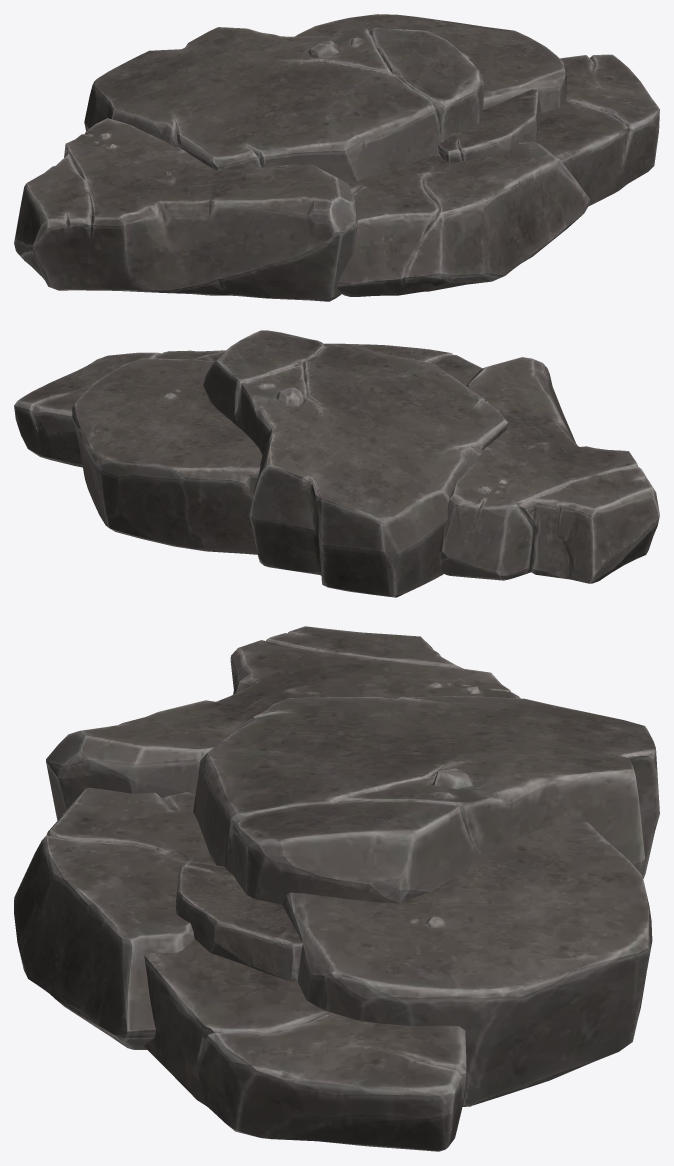
The picture shows the model from 3 angles, top to bottom: view 1: azimuth 30°, elevation 25°; view 2: azimuth 150°, elevation 25°; view 3: azimuth 270°, elevation 25°; orthographic projection. The views are drawn at different scales.
Visible parts, largest first — view 1: SM_Mining_None_Large_Coal_01_LOD0; view 2: SM_Mining_None_Large_Coal_01_LOD0; view 3: SM_Mining_None_Large_Coal_01_LOD0.
Boxes of the visible parts, left/top/right/bottom form: SM_Mining_None_Large_Coal_01_LOD0: left=14, top=14, right=659, bottom=301; SM_Mining_None_Large_Coal_01_LOD0: left=14, top=330, right=659, bottom=597; SM_Mining_None_Large_Coal_01_LOD0: left=14, top=626, right=659, bottom=1151.
Bounding box in the file's own units: 6.08 × 1.28 × 3.8.
Materials: 1 (1 with a texture image).
